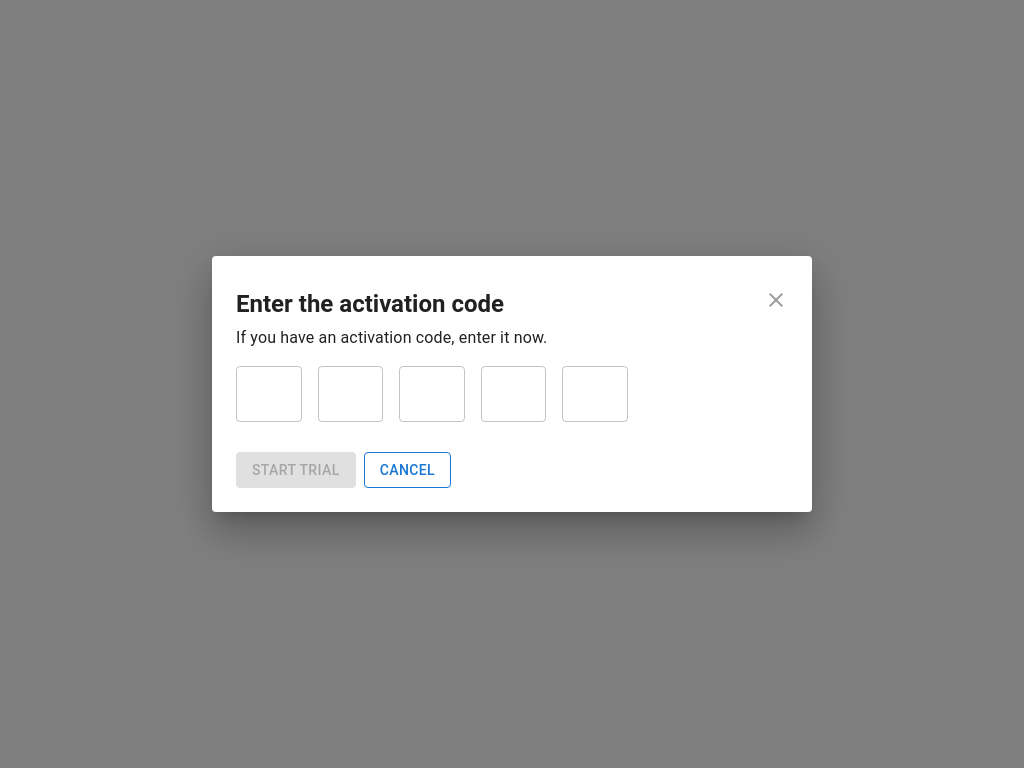
it: AccessCodeInputModal › moves focus to next input after entering valid character
// Click on first input to focus it
Click the 1st field.
click(269, 394)  # box left=236, top=366, right=302, bottom=422
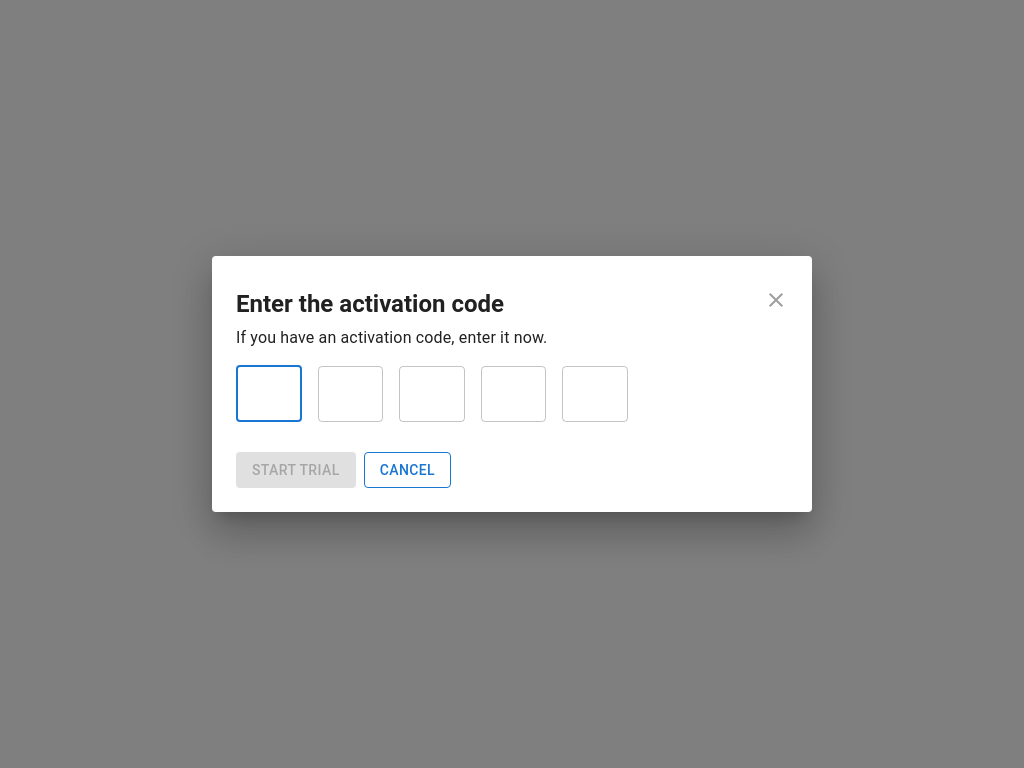
// Type a character
Type keys "A"
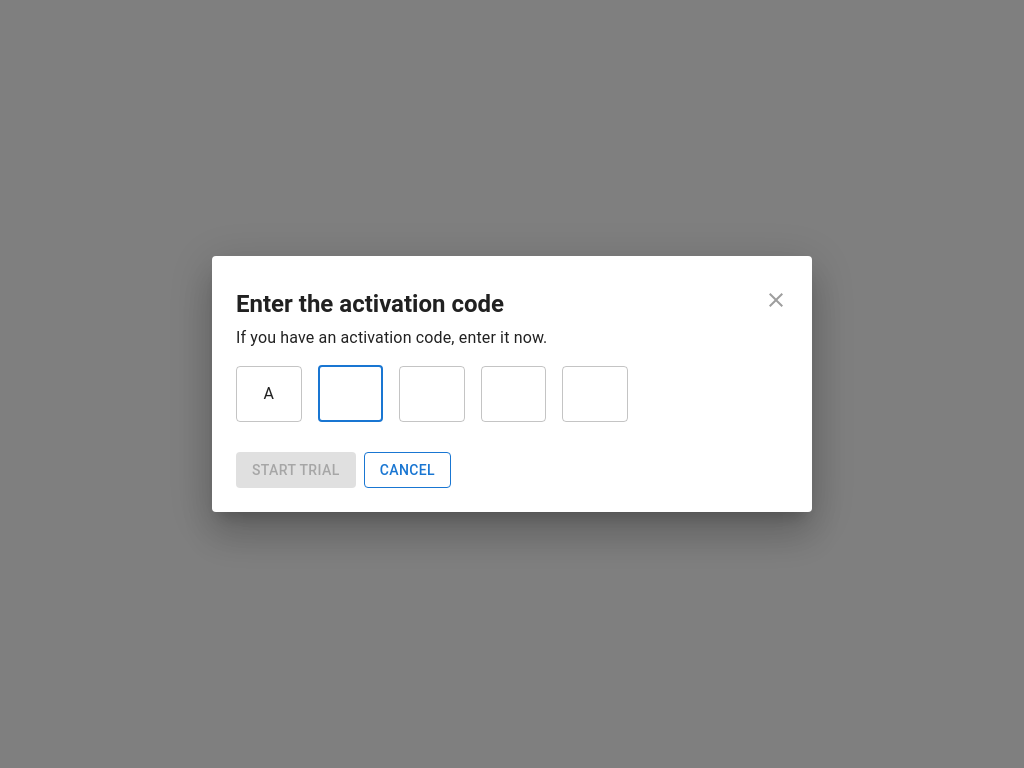
Expected: the 1st field holds "A", left=236, top=366, right=302, bottom=422
